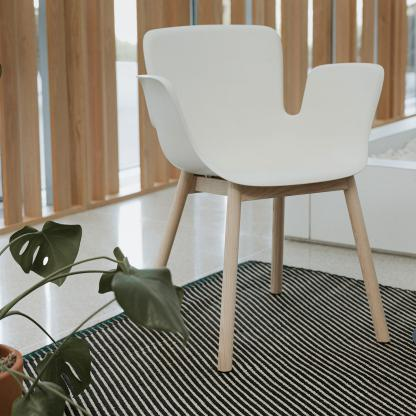chair: (137, 20, 399, 374)
